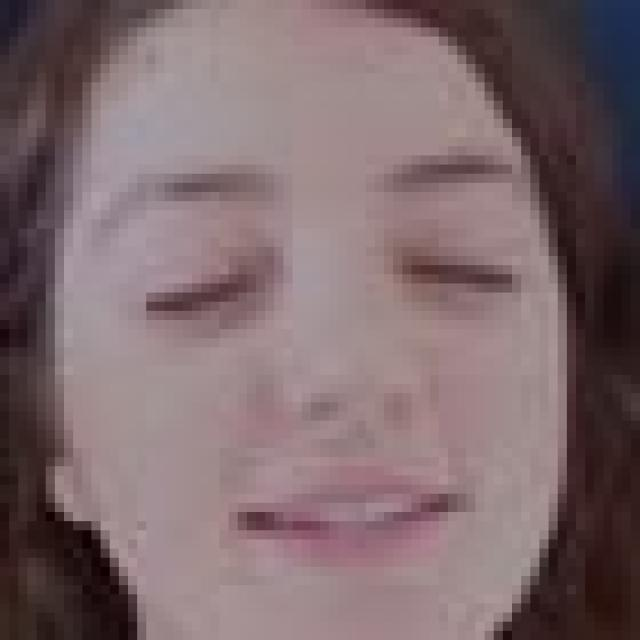Eyeclosed: (138, 256, 252, 330), (405, 242, 518, 303)
